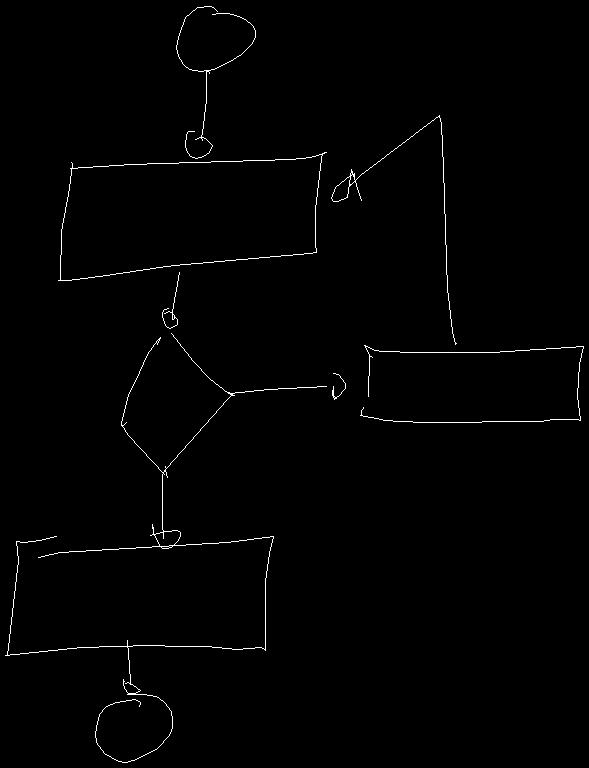arrow: (331, 115, 456, 344), (228, 373, 345, 399), (185, 70, 212, 158), (150, 469, 180, 548), (162, 272, 179, 328), (123, 640, 140, 693)
connection: (95, 694, 172, 762), (176, 6, 255, 71)
decision: (121, 333, 234, 474)
process: (58, 152, 326, 280), (5, 536, 273, 655), (360, 345, 583, 422)
